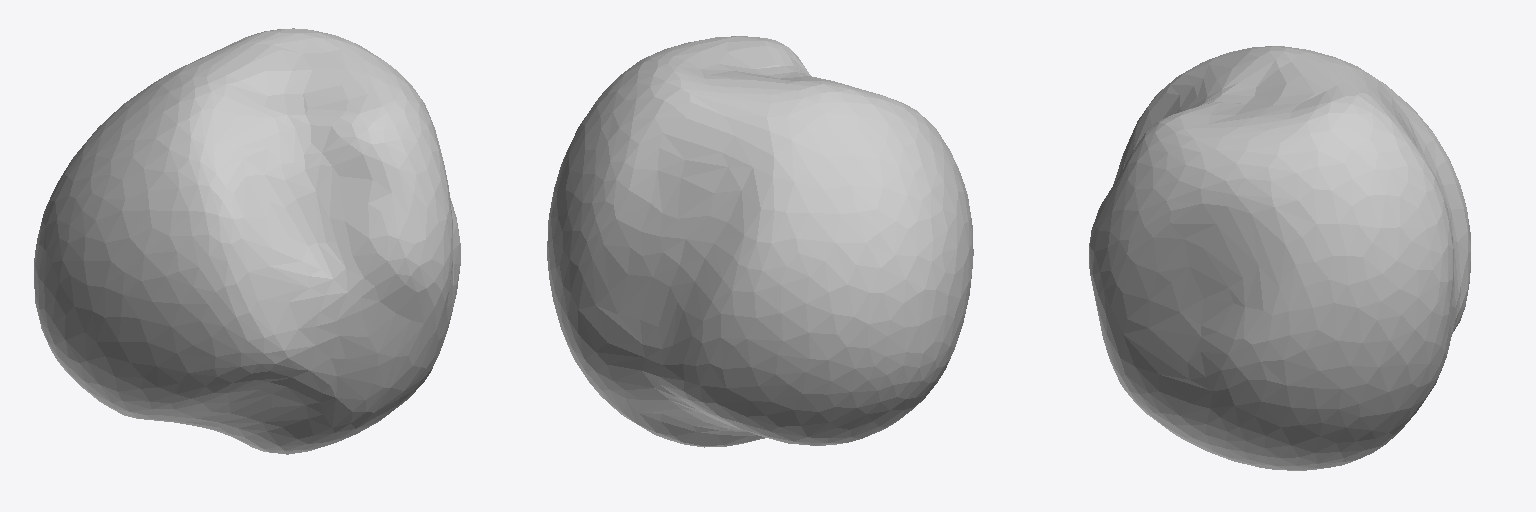
File: moon_3.obj
The picture shows the model from 3 angles: view 1: azimuth 30°, elevation 25°; view 2: azimuth 150°, elevation 25°; view 3: azimuth 270°, elevation 25°; orthographic projection.
Bounding box in the file's own units: 4.08 × 3.85 × 3.56.